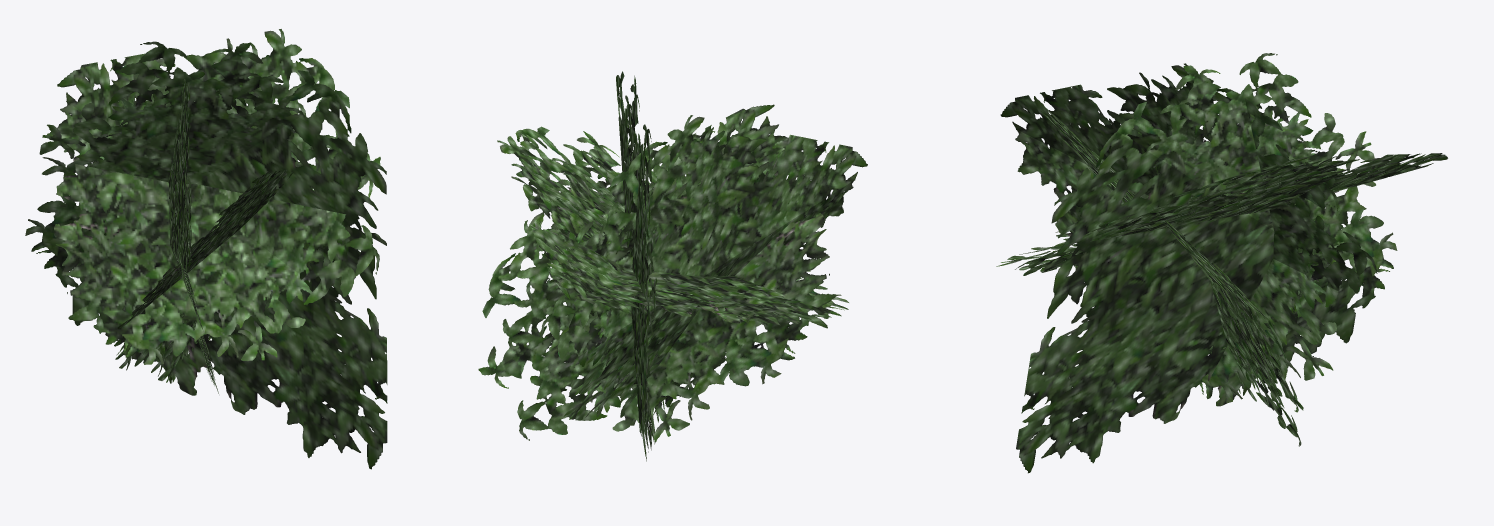
Rendered from bush.dae.
3 renders of one model, left to right at view 1: azimuth 30°, elevation 25°; view 2: azimuth 150°, elevation 25°; view 3: azimuth 270°, elevation 25°, orthographic. The views are drawn at different scales.
Parts seen in each view (by area): view 1: polySurface14659; view 2: polySurface14659; view 3: polySurface14659.
Part boxes in pixels (x1,y1,x2,y2): polySurface14659: (25,29,387,469); polySurface14659: (478,71,867,461); polySurface14659: (996,53,1447,473).
Size of the model in its own units: 1.32 by 1.42 by 1.69.
Materials: 1 (1 with a texture image).
